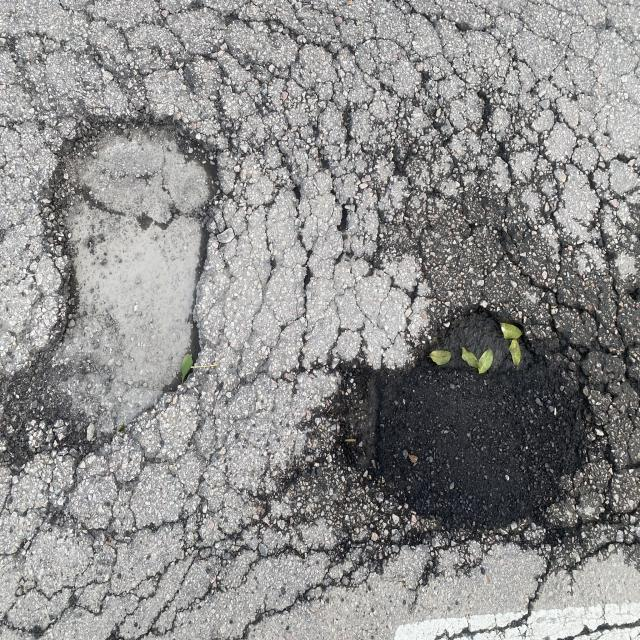pothole: (9, 80, 249, 536), (307, 296, 640, 597)
